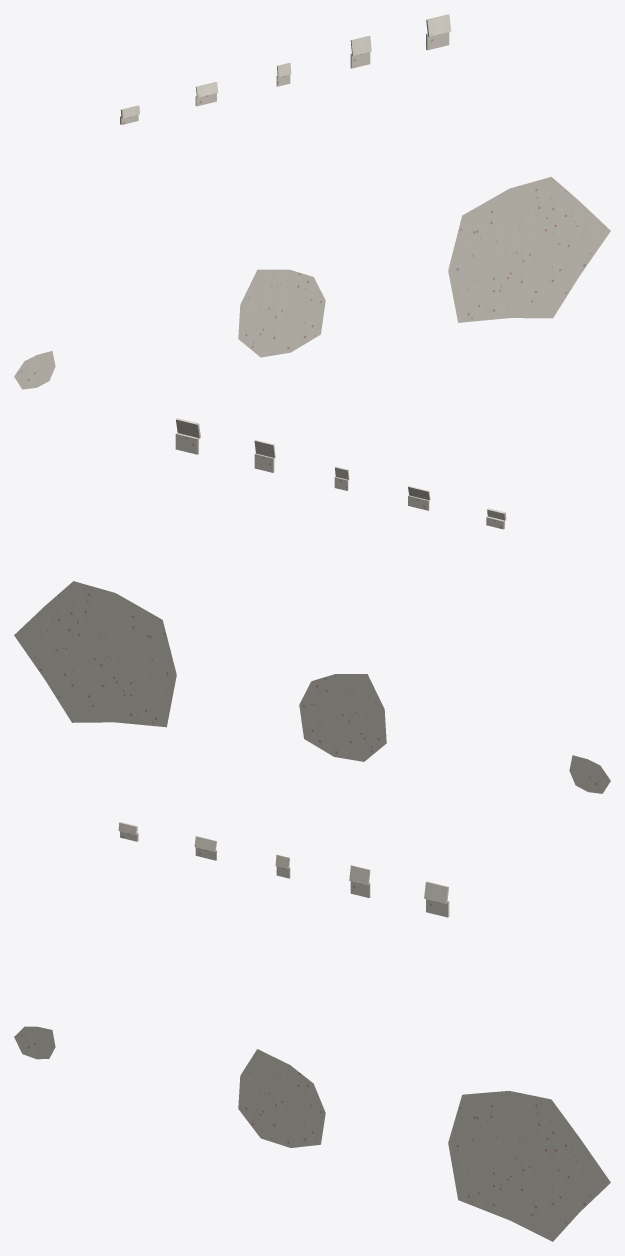
File: ENV_WallDamageKit.fbx
The picture shows the model from 3 angles, top to bottom: view 1: azimuth 30°, elevation 25°; view 2: azimuth 150°, elevation 25°; view 3: azimuth 330°, elevation 25°; orthographic projection.
Parts seen in each view (by area): view 1: WallDamage_Decal_3, WallDamage_Decal_2, WallDamage_Decal_1, WallDamage_Flake_05, WallDamage_Flake_04; view 2: WallDamage_Decal_3, WallDamage_Decal_2, WallDamage_Decal_1, WallDamage_Flake_05, WallDamage_Flake_04; view 3: WallDamage_Decal_3, WallDamage_Decal_2, WallDamage_Decal_1, WallDamage_Flake_05, WallDamage_Flake_04.
Part boxes in pixels (x1,y1,x2,y2): WallDamage_Decal_3: (448, 176, 610, 322); WallDamage_Decal_2: (238, 269, 325, 357); WallDamage_Decal_1: (14, 351, 55, 389); WallDamage_Flake_05: (426, 14, 451, 50); WallDamage_Flake_04: (350, 35, 371, 68); WallDamage_Decal_3: (14, 581, 176, 727); WallDamage_Decal_2: (299, 674, 386, 761); WallDamage_Decal_1: (569, 755, 610, 793); WallDamage_Flake_05: (175, 418, 200, 454); WallDamage_Flake_04: (254, 440, 275, 472); WallDamage_Decal_3: (448, 1090, 610, 1241); WallDamage_Decal_2: (238, 1049, 325, 1147); WallDamage_Decal_1: (14, 1026, 55, 1059); WallDamage_Flake_05: (424, 881, 449, 917); WallDamage_Flake_04: (349, 865, 370, 897).
Size of the model in its own units: 194 by 102 by 1.89.
